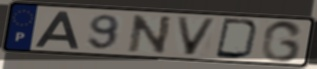9: (85, 13, 125, 51)
A: (33, 10, 81, 51)
D: (213, 16, 262, 61)
G: (258, 19, 305, 64)
N: (127, 14, 175, 56)
V: (174, 15, 220, 57)
